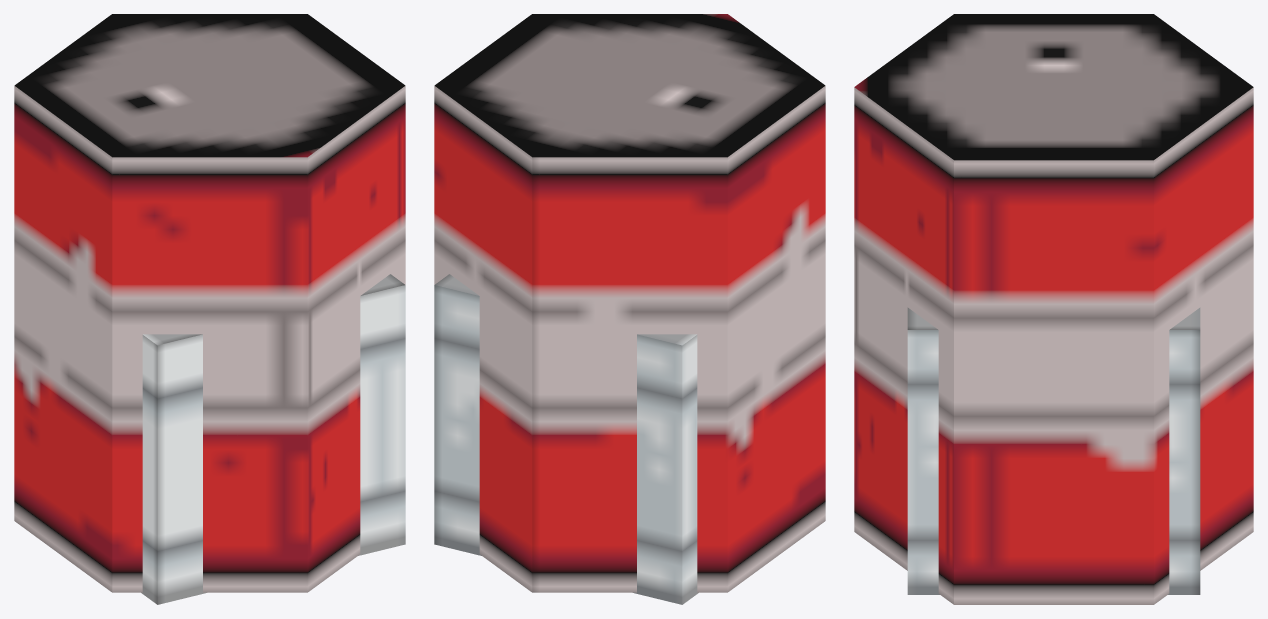
The model's file is mesh_list.glb.
3 views of the same model, side by side, from view 1: azimuth 30°, elevation 25°; view 2: azimuth 150°, elevation 25°; view 3: azimuth 270°, elevation 25° (orthographic). The views are drawn at different scales.
Parts seen in each view (by area): view 1: __BARREL__, __HP_PACK__; view 2: __BARREL__, __HP_PACK__; view 3: __BARREL__, __HP_PACK__.
Part boxes in pixels (x1,y1,x2,y2): __BARREL__: (14, 14, 405, 592); __HP_PACK__: (141, 274, 405, 604); __BARREL__: (434, 14, 825, 592); __HP_PACK__: (434, 274, 698, 604); __BARREL__: (854, 14, 1253, 604); __HP_PACK__: (907, 307, 1200, 594).
Bounding box in the file's own units: 1.12 × 1.6 × 1.29.
Materials: 1 (1 with a texture image).
